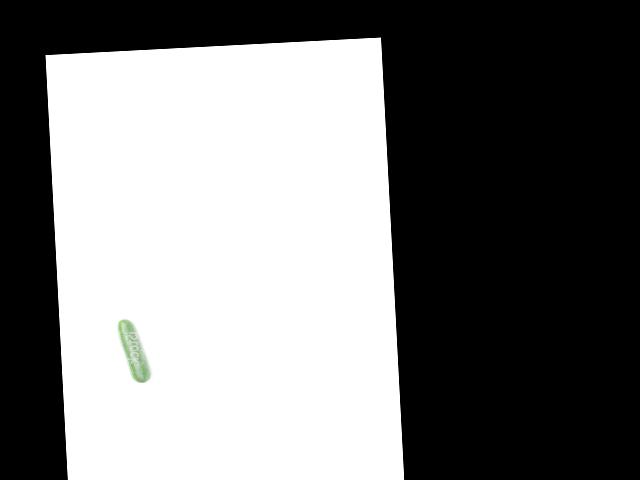cucumber: (117, 318, 151, 384)
